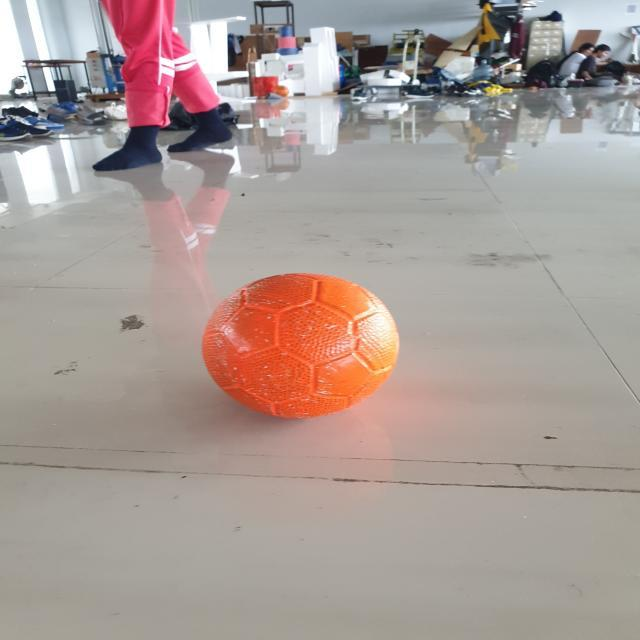bola: (194, 268, 406, 425)
